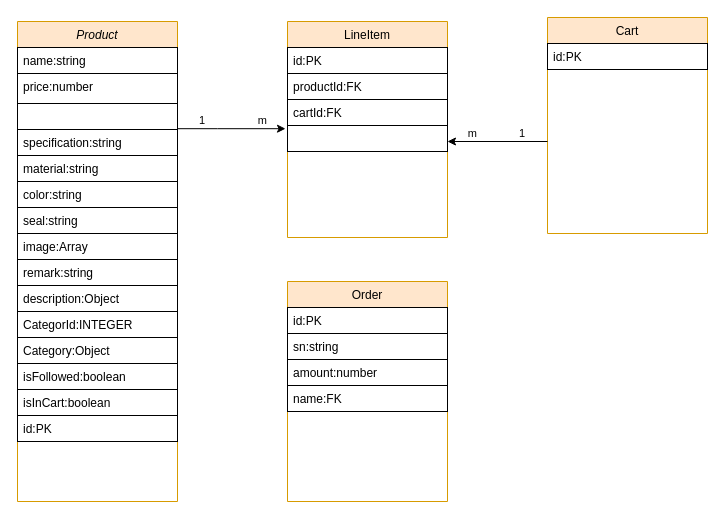
Some shapes in this 725 by 519 pixel diagram are drawn without their labels. Here are the shapes that lost their labels. From the top down, the centre of each, then its label:
[97,116]: size:Object
[367,138]: quantity:integer
